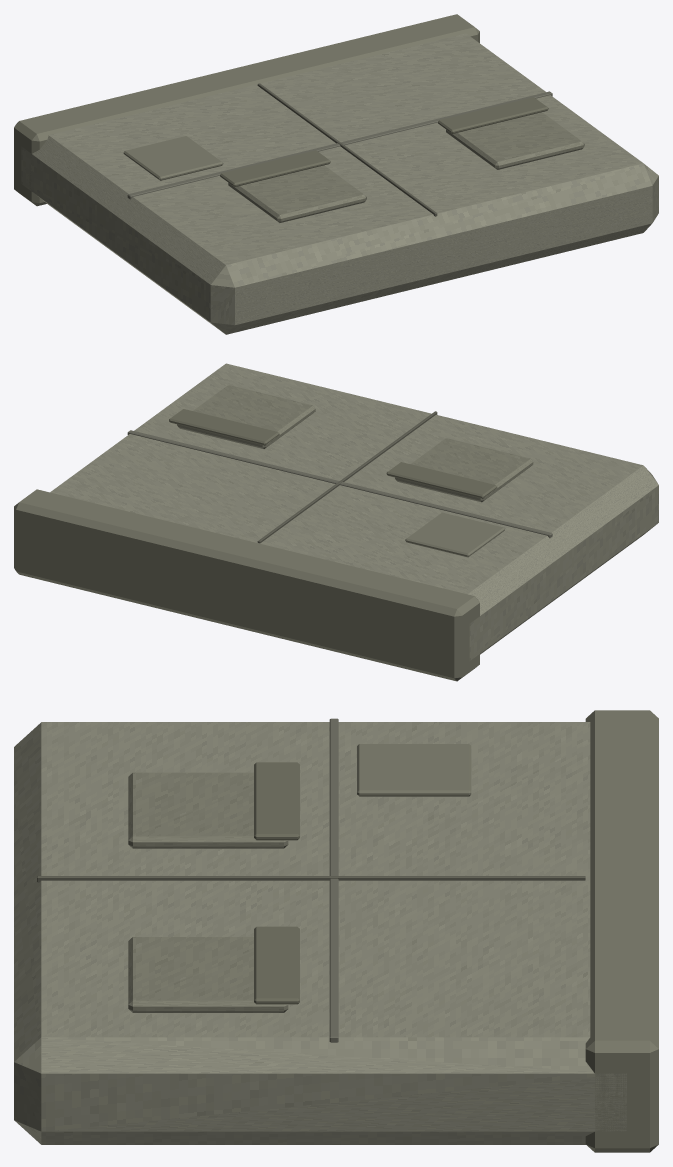
File: pants_cargo.glb
3 views of the same model, one above another, from view 1: azimuth 30°, elevation 25°; view 2: azimuth 150°, elevation 25°; view 3: azimuth 270°, elevation 25° (orthographic). The views are drawn at different scales.
Parts seen in each view (by area): view 1: block_body, block_waist, block_cargo0.07, block_cargo-0.1, block_pocket, block_flap0.07, block_flap-0.1, block_fold, block_seam; view 2: block_body, block_waist, block_cargo0.07, block_cargo-0.1, block_pocket, block_fold, block_flap-0.1, block_flap0.07, block_seam; view 3: block_body, block_waist, block_cargo-0.1, block_cargo0.07, block_pocket, block_flap-0.1, block_flap0.07, block_fold, block_seam.
Part boxes in pixels (left/top/right/bottom): block_body: left=21, top=33, right=658, bottom=334; block_waist: left=14, top=14, right=479, bottom=206; block_cargo0.07: left=446, top=112, right=584, bottom=169; block_cargo-0.1: left=228, top=165, right=366, bottom=222; block_pocket: left=123, top=136, right=223, bottom=180; block_flap0.07: left=438, top=97, right=548, bottom=133; block_flap-0.1: left=220, top=150, right=330, bottom=186; block_fold: left=127, top=91, right=552, bottom=199; block_seam: left=257, top=83, right=437, bottom=216; block_body: left=50, top=363, right=658, bottom=660; block_waist: left=14, top=489, right=479, bottom=681; block_cargo0.07: left=177, top=385, right=315, bottom=448; block_cargo-0.1: left=395, top=438, right=533, bottom=502; block_pocket: left=405, top=512, right=504, bottom=557; block_fold: left=127, top=430, right=552, bottom=538; block_flap-0.1: left=386, top=462, right=497, bottom=498; block_flap0.07: left=169, top=409, right=279, bottom=445; block_seam: left=257, top=411, right=437, bottom=543; block_body: left=14, top=722, right=626, bottom=1144; block_waist: left=585, top=710, right=658, bottom=1152; block_cargo-0.1: left=128, top=772, right=288, bottom=848; block_cargo0.07: left=128, top=937, right=288, bottom=1012; block_pocket: left=357, top=744, right=471, bottom=796; block_flap-0.1: left=254, top=762, right=299, bottom=840; block_flap0.07: left=254, top=926, right=299, bottom=1004; block_fold: left=329, top=718, right=338, bottom=1042; block_seam: left=37, top=876, right=585, bottom=882.
Size of the model in its own units: 0.35 by 0.061 by 0.282.
Materials: 1 (1 with a texture image).
